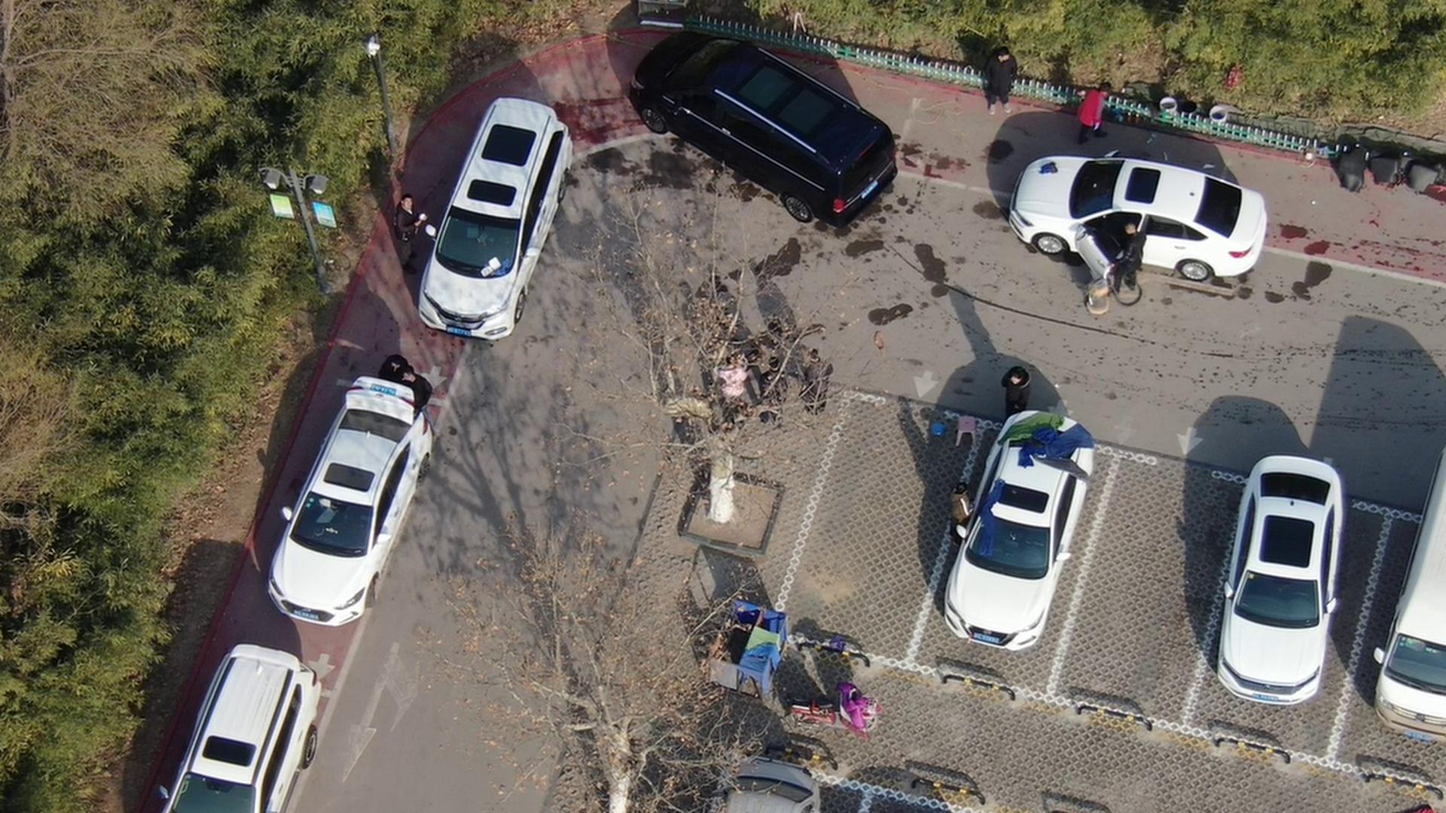human: (394, 185, 435, 281), (1114, 215, 1155, 295), (760, 348, 795, 435), (801, 340, 838, 422), (992, 41, 1030, 116), (1076, 75, 1117, 142), (1002, 361, 1036, 421), (416, 369, 441, 419), (950, 486, 976, 531), (384, 348, 415, 382)
